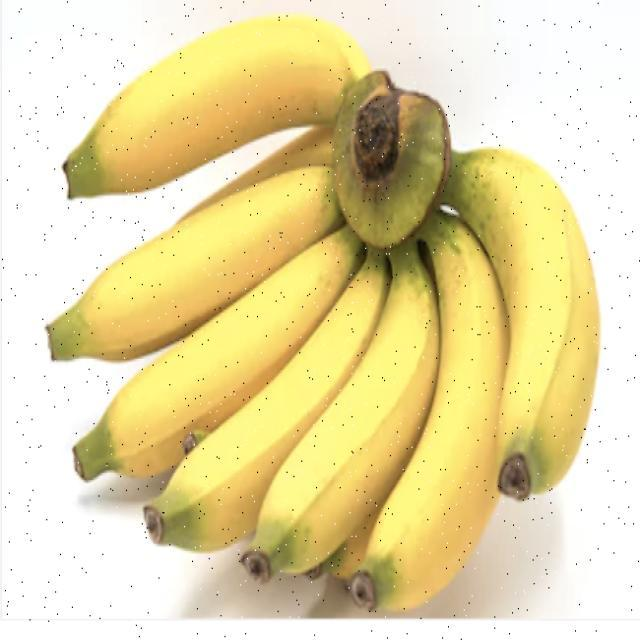Banana: (51, 15, 602, 610)
